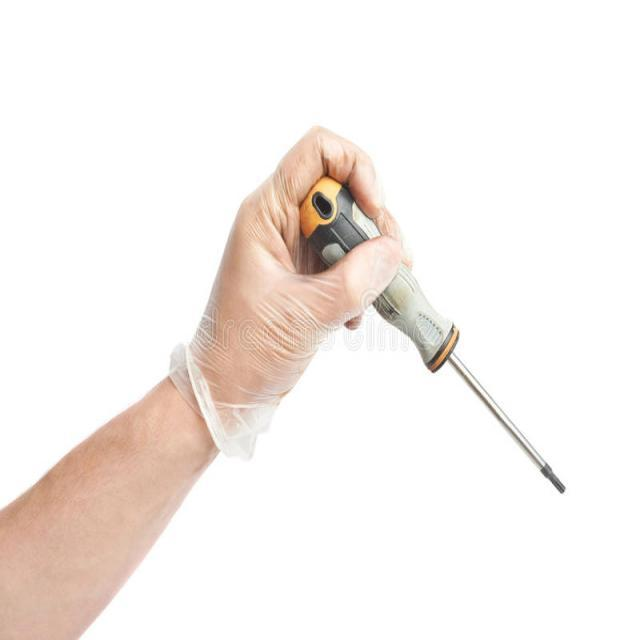screwdriver: (296, 168, 568, 498)
